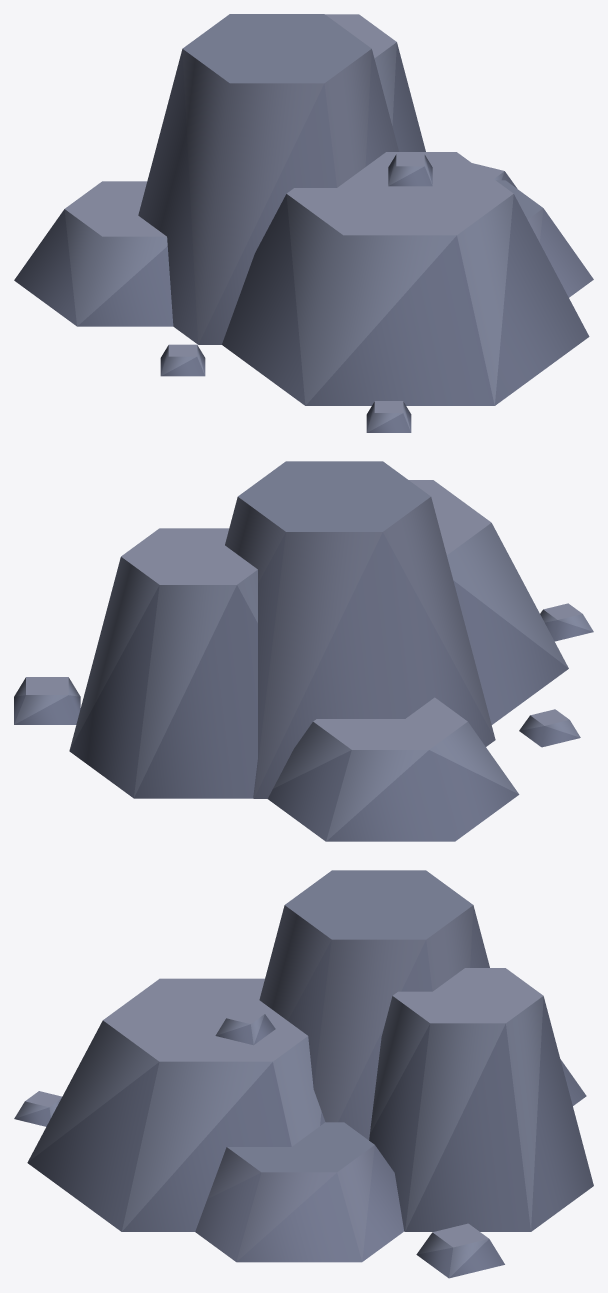
Rendered from kenney_castle_rocks_small.glb.
3 views of the same model, one above another, from view 1: azimuth 30°, elevation 25°; view 2: azimuth 150°, elevation 25°; view 3: azimuth 270°, elevation 25° (orthographic). The views are drawn at different scales.
Visible parts, largest first — view 1: stone; view 2: stone; view 3: stone.
Part boxes in pixels (box(x1,y1,x2,y2)): stone: box(14, 14, 593, 432); stone: box(14, 461, 593, 841); stone: box(14, 870, 593, 1278).
Bounding box in the file's own units: 1.03 × 0.5 × 1.11.
